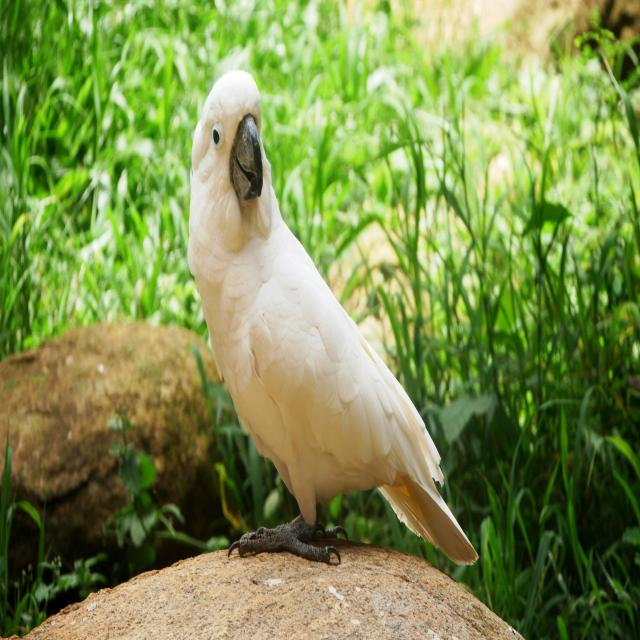Kakatua Putih: (171, 51, 484, 613)
